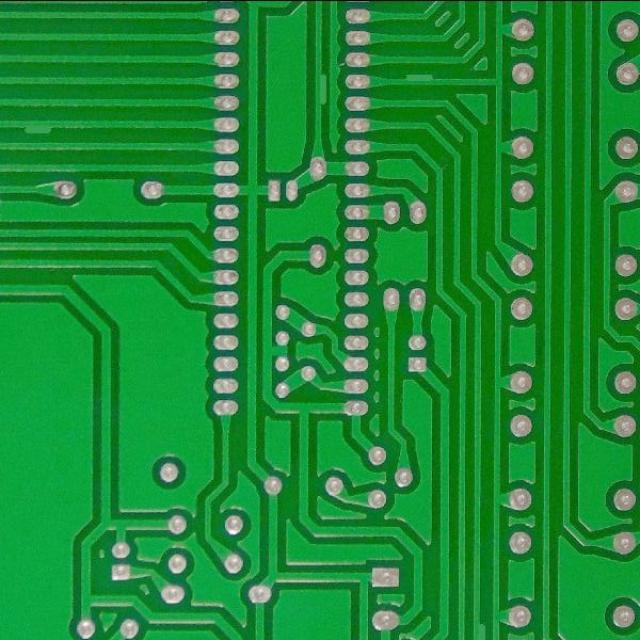Spur: (18, 115, 59, 138), (400, 68, 438, 90), (312, 69, 329, 109)
